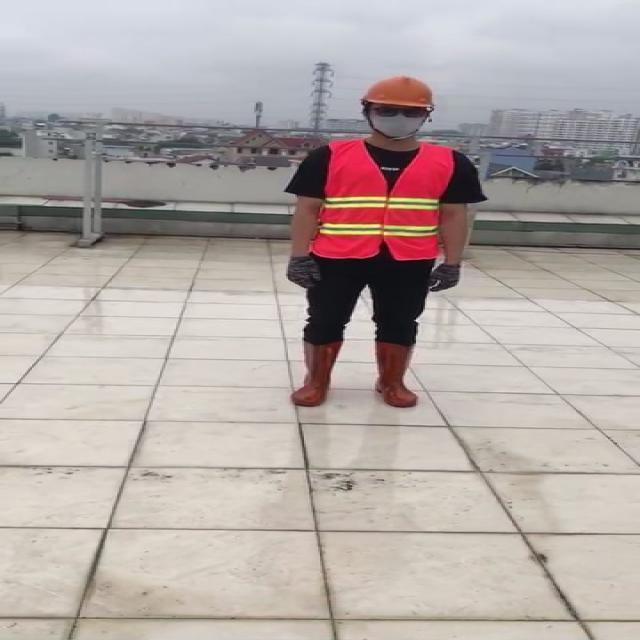gloves: (426, 259, 461, 295), (287, 255, 321, 290)
goggles: (368, 107, 431, 118)
helmet: (360, 75, 438, 108)
safety_vest: (315, 140, 457, 258)
